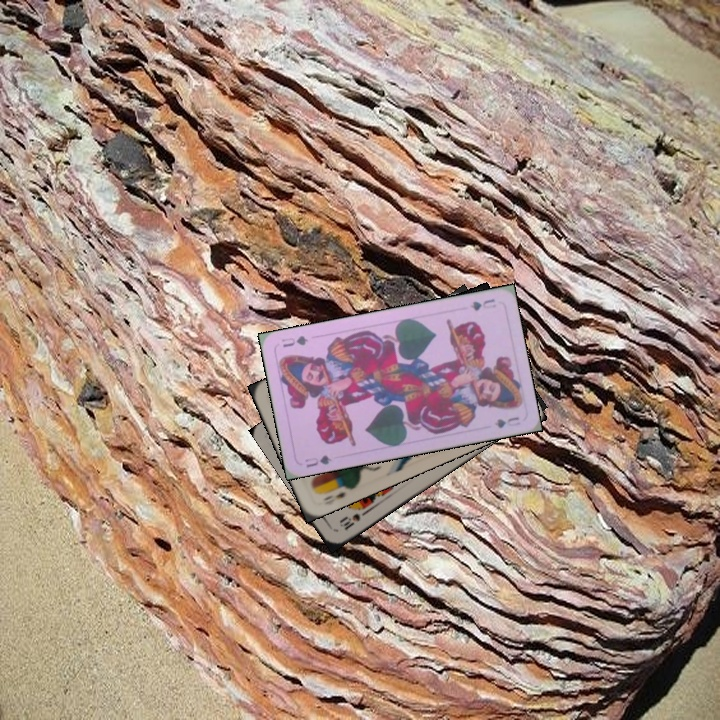EO: (314, 481, 353, 503)
GU: (301, 451, 334, 470), (466, 295, 499, 313)
S10: (336, 506, 371, 533)
